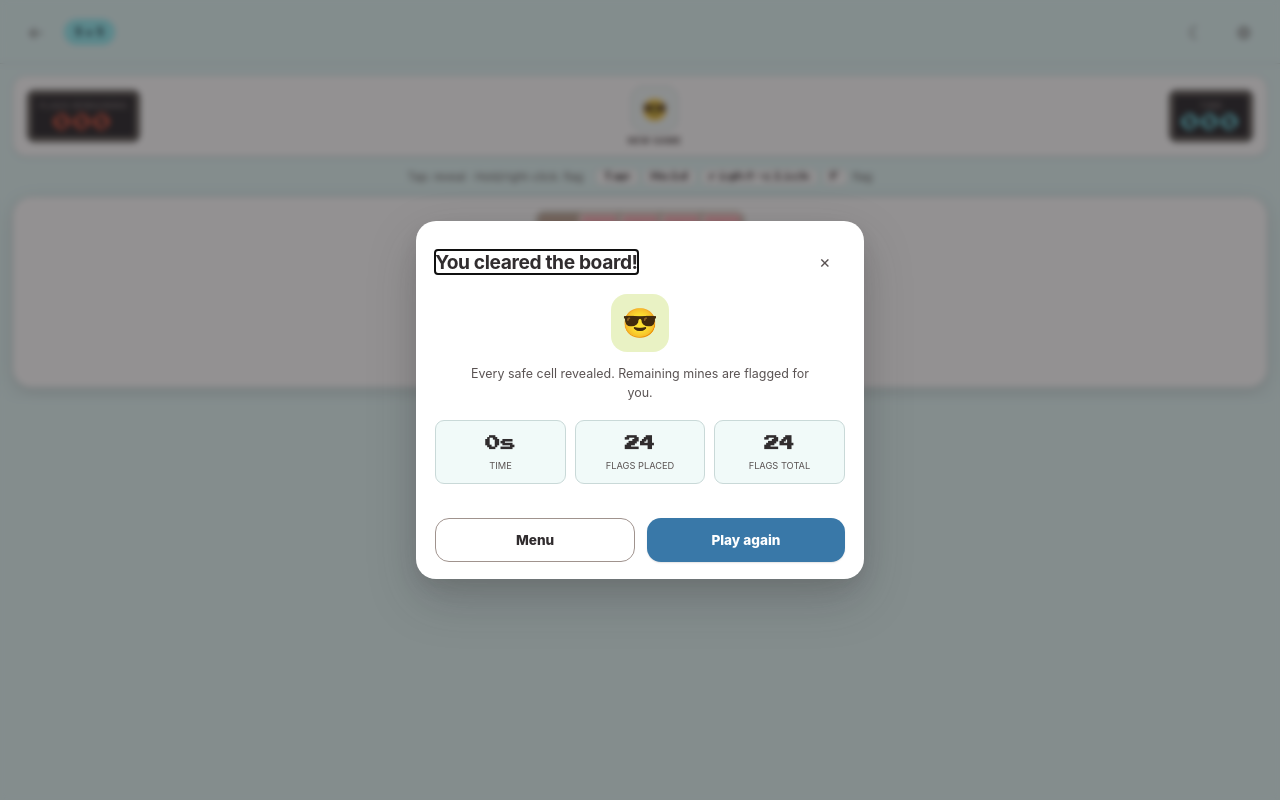
Test: game screen › closes only the terminal overlay and keeps the projected board on Game
This screenshot has width=1280, height=800.
Step 1. Click the button named "close result" → x=825, y=262, box [805, 242, 845, 282]
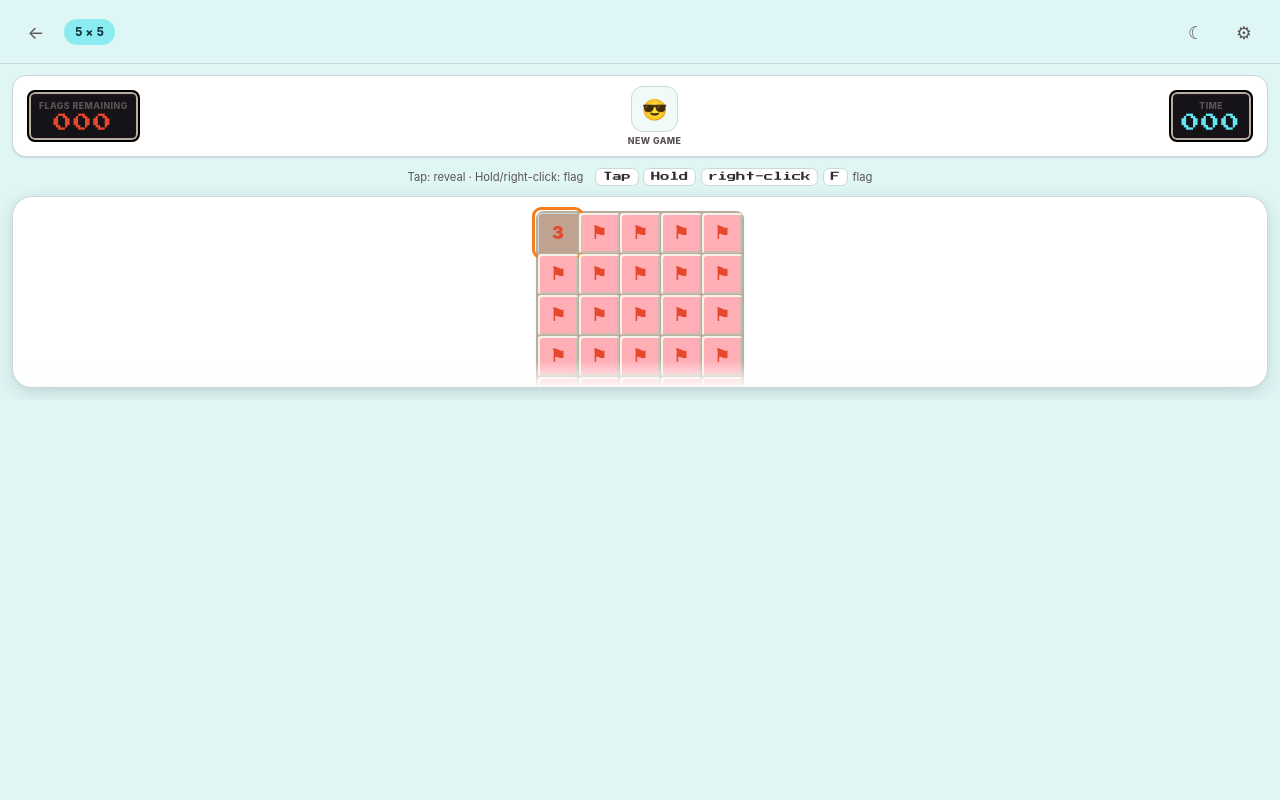
expect the table is shown: met, box [536, 210, 744, 387]
expect the dialog is gone: met
